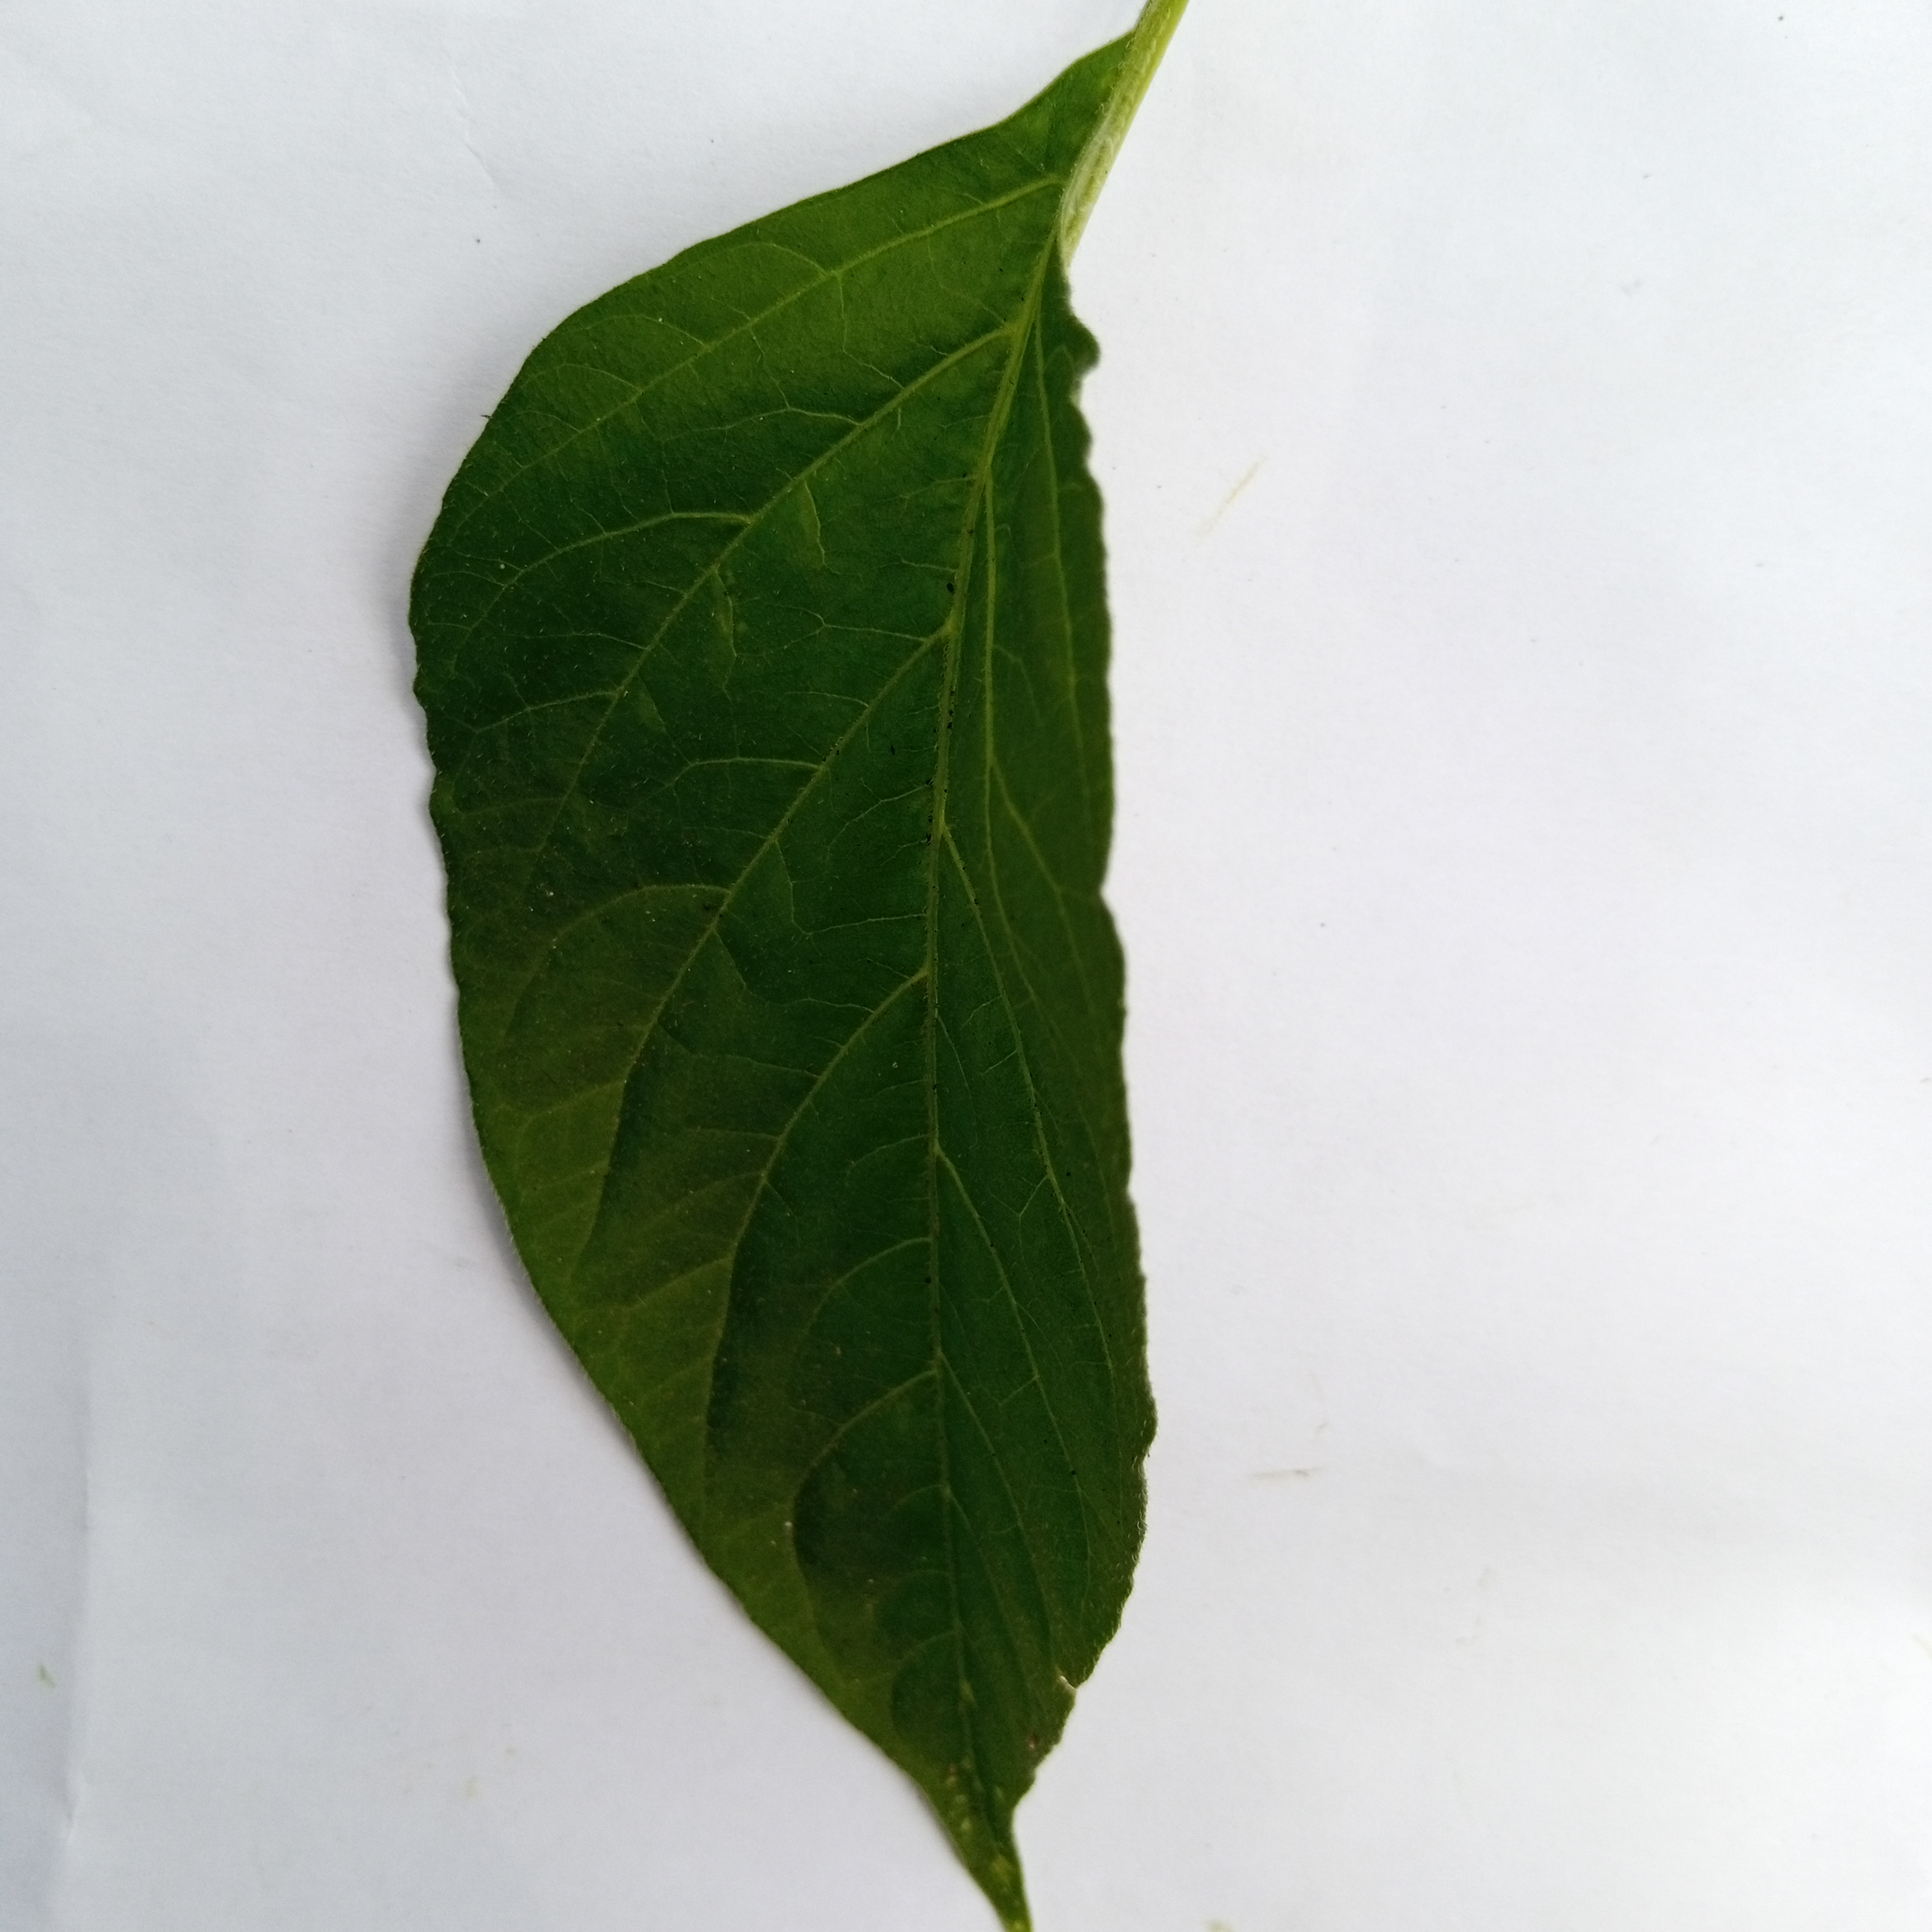Leaf: (341, 9, 1405, 1932)
